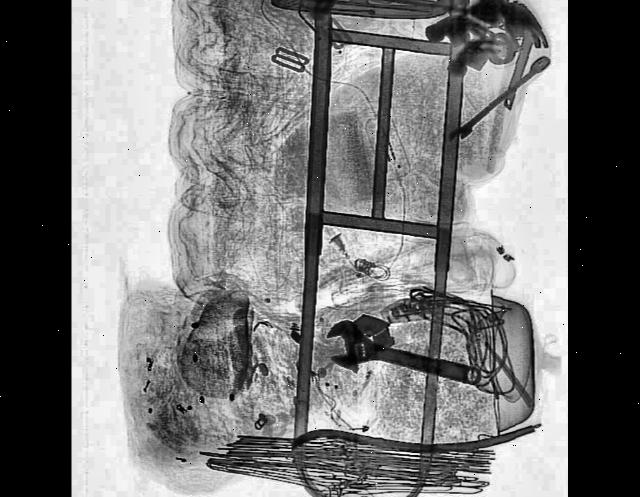Wrench: (324, 316, 484, 400), (448, 53, 550, 146)
